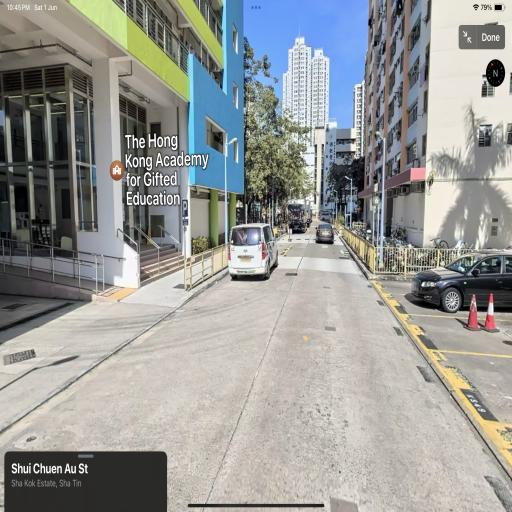Roads: (17, 219, 495, 492)
Trees: (247, 58, 305, 250)
